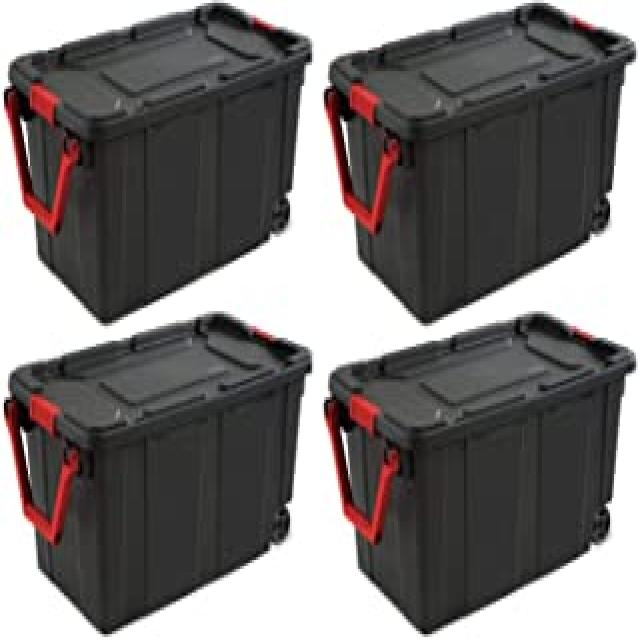basket: (0, 292, 364, 640)
